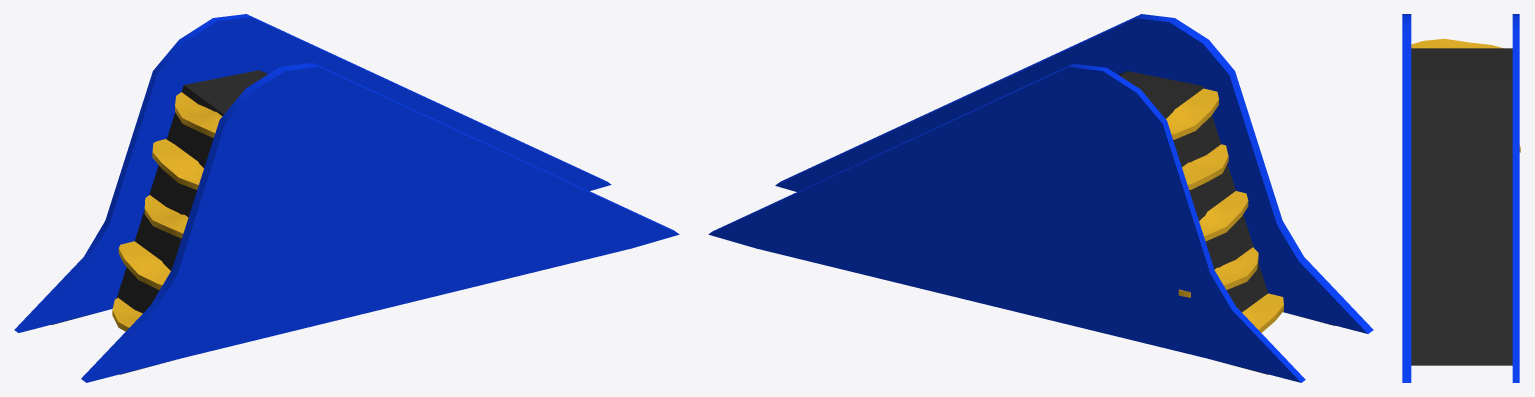
The model's file is MOD_Tobogan.FBX.
3 renders of one model, left to right at view 1: azimuth 30°, elevation 25°; view 2: azimuth 150°, elevation 25°; view 3: azimuth 270°, elevation 25°, orthographic. The views are drawn at different scales.
Visible parts, largest first — view 1: Tobogan; view 2: Tobogan; view 3: Tobogan.
Part boxes in pixels (bbox=[...]): Tobogan: bbox=[14, 14, 679, 382]; Tobogan: bbox=[708, 14, 1373, 382]; Tobogan: bbox=[1402, 14, 1520, 382].
Bounding box in the file's own units: 3.43 × 1.45 × 0.7308.
